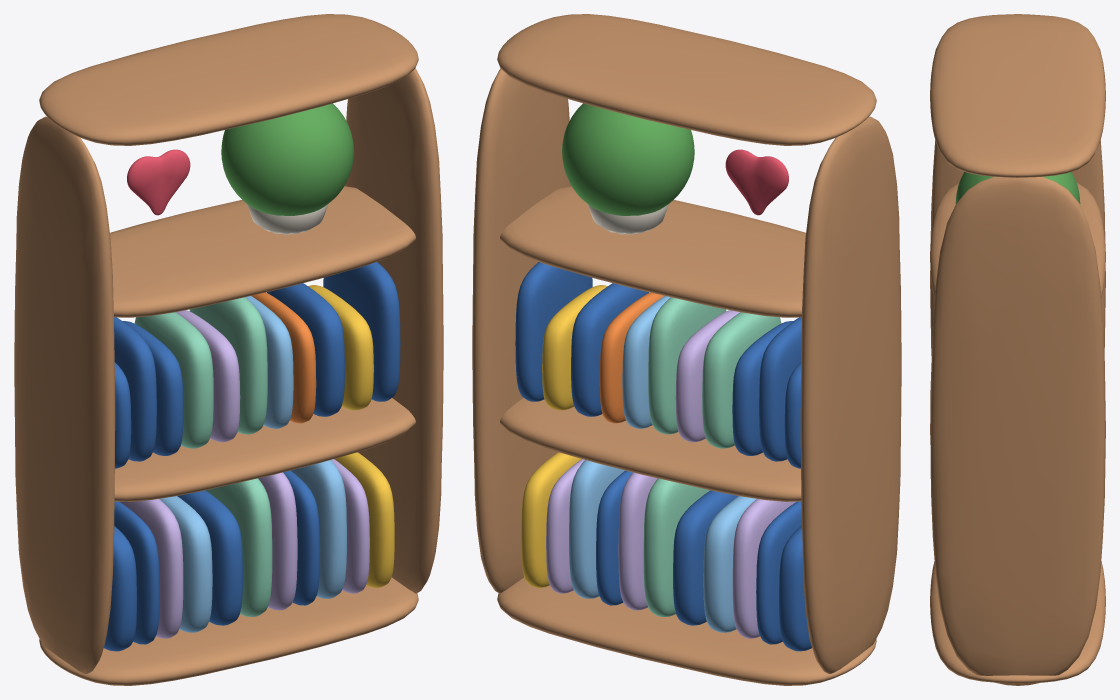
Rendered from deco_estanteria.glb.
3 renders of one model, left to right at view 1: azimuth 30°, elevation 25°; view 2: azimuth 150°, elevation 25°; view 3: azimuth 270°, elevation 25°, orthographic. The views are drawn at different scales.
Parts seen in each view (by area): view 1: lado estante -1.001, tabla estante 3.001, lado estante 1.001, tabla estante 2.001, tabla estante 0.001, tabla estante 1.001, planta estante.001, libro 1 0.006, libro 1 -0.005, libro 1 -0.008, libro 0 -0.008, libro 1 0.004 (+19 smaller); view 2: lado estante -1.001, tabla estante 3.001, lado estante 1.001, tabla estante 2.001, tabla estante 0.001, tabla estante 1.001, planta estante.001, libro 1 0.006, libro 1 -0.005, libro 1 -0.008, libro 0 -0.008, libro 1 0.004 (+19 smaller); view 3: lado estante 1.001, tabla estante 3.001, tabla estante 0.001, lado estante -1.001, tabla estante 2.001, planta estante.001.
Boxes of the visible parts, x1=… form: lado estante -1.001: x1=14, y1=116, x2=115, y2=673; tabla estante 3.001: x1=39, y1=14, x2=418, y2=145; lado estante 1.001: x1=344, y1=68, x2=443, y2=593; tabla estante 2.001: x1=110, y1=186, x2=415, y2=317; tabla estante 0.001: x1=39, y1=577, x2=418, y2=685; tabla estante 1.001: x1=114, y1=398, x2=415, y2=501; planta estante.001: x1=221, y1=103, x2=353, y2=215; libro 1 0.006: x1=323, y1=262, x2=400, y2=401; libro 1 -0.005: x1=134, y1=312, x2=213, y2=448; libro 1 -0.008: x1=189, y1=297, x2=267, y2=434; libro 0 -0.008: x1=206, y1=478, x2=272, y2=616; libro 1 0.004: x1=266, y1=283, x2=344, y2=416; lado estante -1.001: x1=800, y1=116, x2=901, y2=673; tabla estante 3.001: x1=497, y1=14, x2=876, y2=145; lado estante 1.001: x1=472, y1=68, x2=571, y2=593; tabla estante 2.001: x1=500, y1=186, x2=805, y2=317; tabla estante 0.001: x1=497, y1=577, x2=876, y2=685; tabla estante 1.001: x1=500, y1=398, x2=801, y2=501; planta estante.001: x1=562, y1=103, x2=694, y2=215; libro 1 0.006: x1=515, y1=262, x2=592, y2=401; libro 1 -0.005: x1=702, y1=312, x2=781, y2=448; libro 1 -0.008: x1=648, y1=297, x2=726, y2=434; libro 0 -0.008: x1=643, y1=478, x2=709, y2=616; libro 1 0.004: x1=571, y1=283, x2=649, y2=416; lado estante 1.001: x1=930, y1=176, x2=1105, y2=685; tabla estante 3.001: x1=930, y1=14, x2=1105, y2=177; tabla estante 0.001: x1=930, y1=561, x2=1105, y2=683; lado estante -1.001: x1=930, y1=140, x2=1105, y2=355; tabla estante 2.001: x1=930, y1=183, x2=1105, y2=297; planta estante.001: x1=955, y1=172, x2=1080, y2=203.
Bounding box in the file's own units: 0.5984 × 0.9195 × 0.2774.
